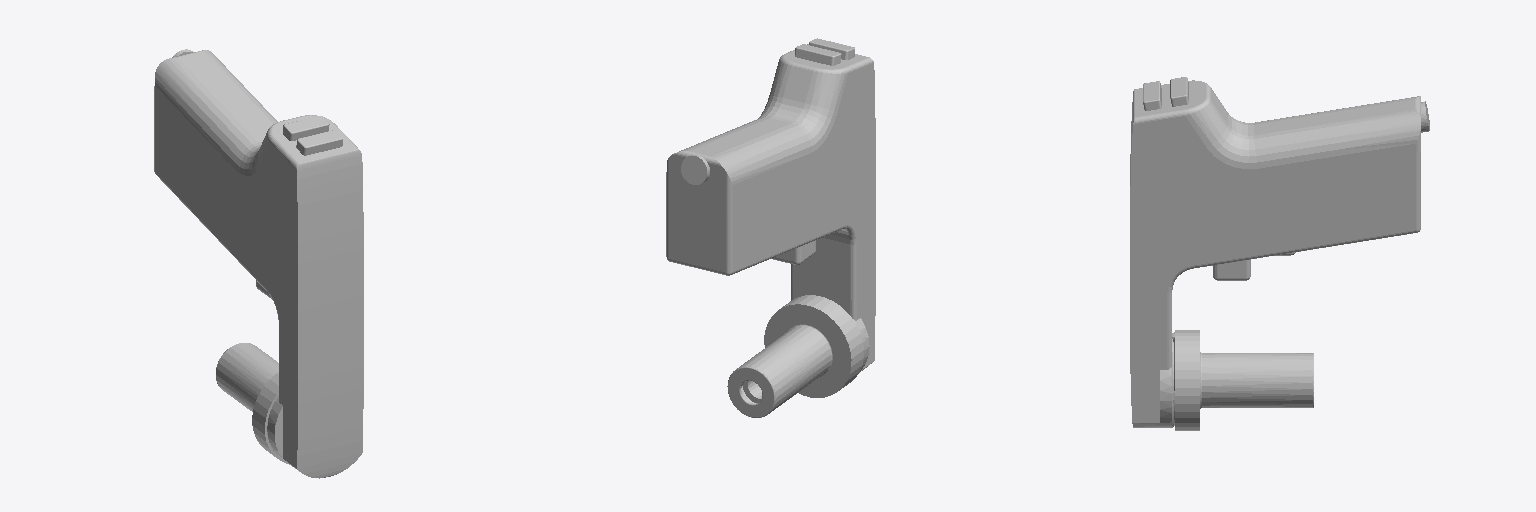
File: pipette_dispense.obj
3 views of the same model, side by side, from view 1: azimuth 30°, elevation 25°; view 2: azimuth 150°, elevation 25°; view 3: azimuth 270°, elevation 25° (orthographic).
Visible parts, largest first — view 1: Body1:4, Body1:2; view 2: Body1:4, Body1:2; view 3: Body1:4, Body1:2, Body1:3.
Boxes of the visible parts, box(x1,y1,x2,y2) form: Body1:4: box(154, 49, 363, 478); Body1:2: box(216, 343, 289, 464); Body1:4: box(666, 38, 875, 372); Body1:2: box(727, 295, 863, 417); Body1:4: box(1130, 77, 1429, 427); Body1:2: box(1175, 330, 1313, 430); Body1:3: box(1213, 260, 1250, 280).
Size of the model in its own units: 3.99 by 14.86 by 11.91.